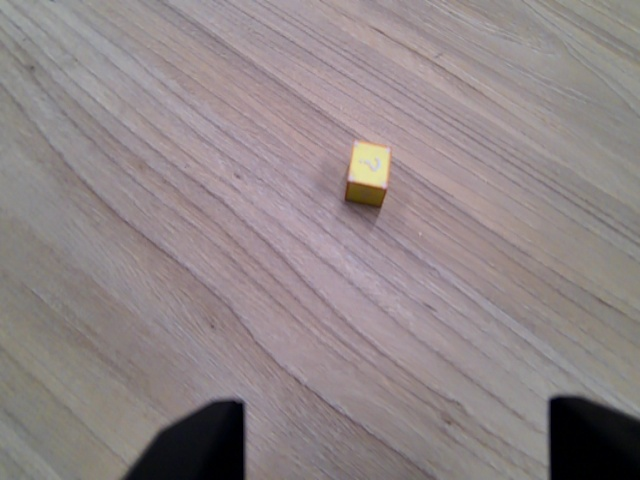lucky: (344, 136, 394, 211)
